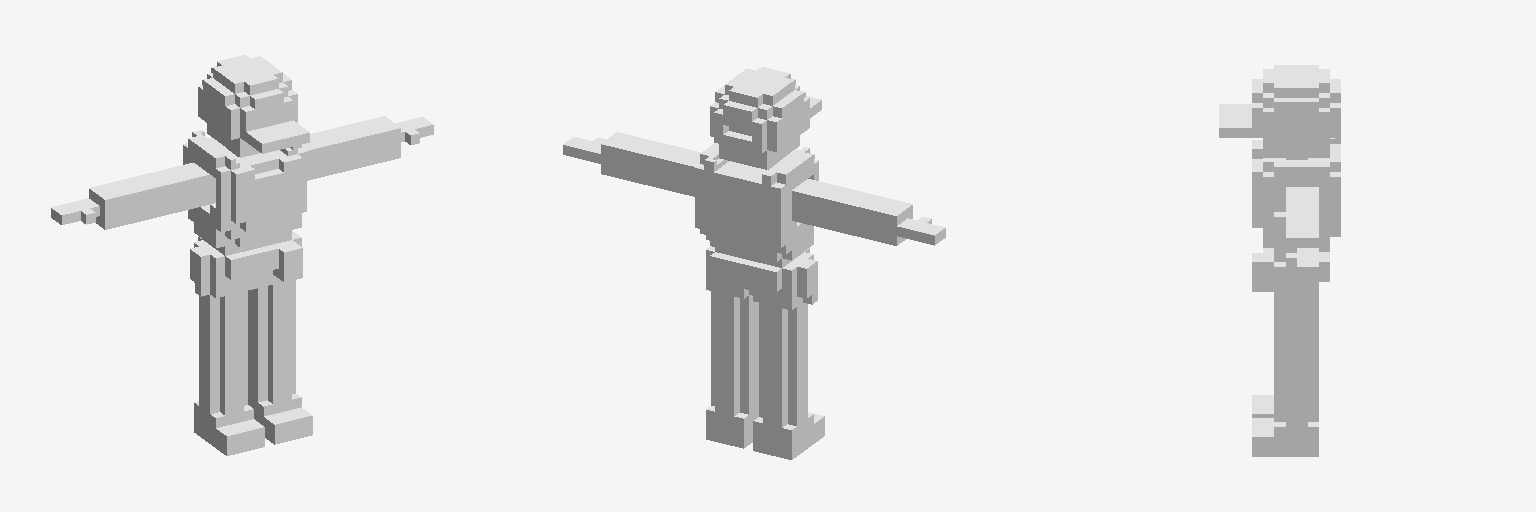
Rendered from Character-4.obj.
3 views of the same model, side by side, from view 1: azimuth 30°, elevation 25°; view 2: azimuth 150°, elevation 25°; view 3: azimuth 270°, elevation 25° (orthographic).
Parts seen in each view (by area): view 1: object 1; view 2: object 1; view 3: object 1.
Part boxes in pixels (x1,y1,x2,y2): object 1: (51,55,433,455); object 1: (563,67,945,459); object 1: (1219,65,1340,456).
Size of the model in its own units: 7.8 by 7.2 by 2.2.